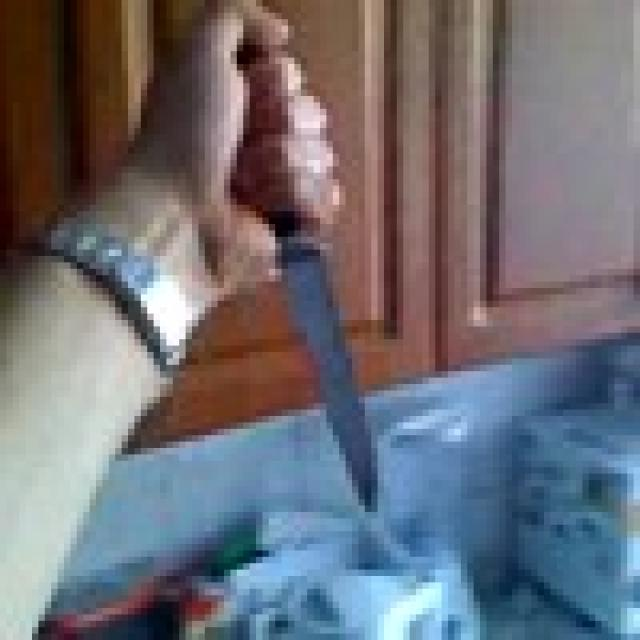Knife: (230, 32, 384, 506)
